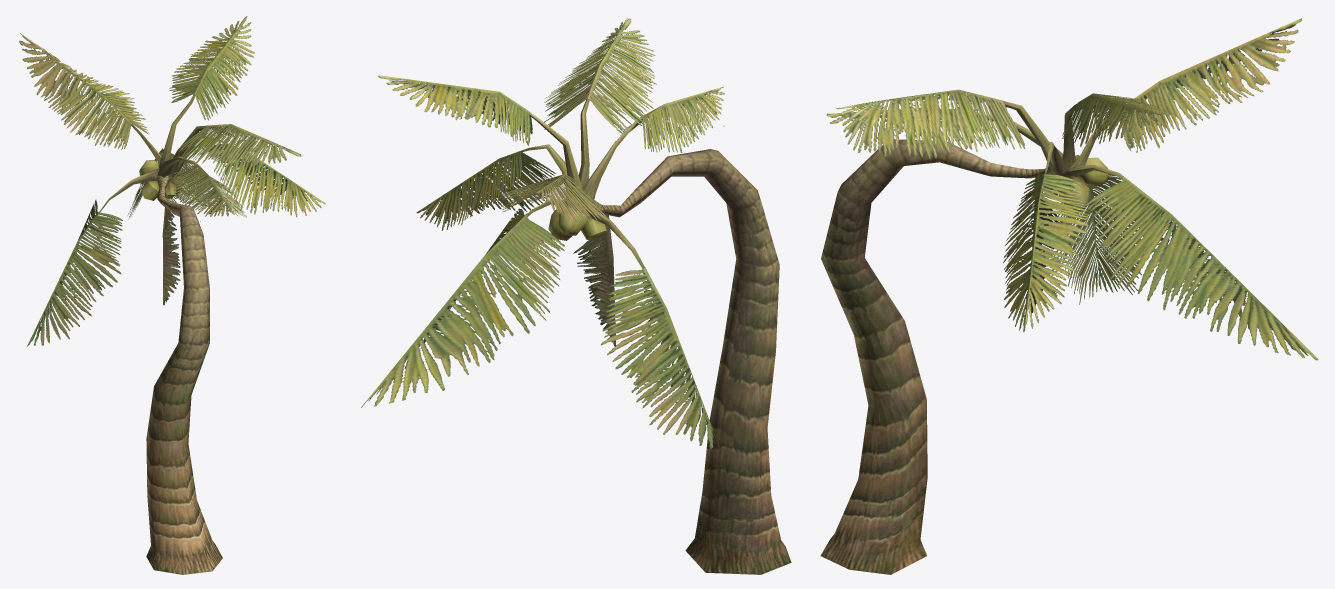
File: 5010_Item_yeshu_04.FBX
The picture shows the model from 3 angles, left to right: view 1: azimuth 30°, elevation 25°; view 2: azimuth 150°, elevation 25°; view 3: azimuth 270°, elevation 25°; orthographic projection. The views are drawn at different scales.
Parts seen in each view (by area): view 1: 5010_Item_yeshu_04; view 2: 5010_Item_yeshu_04; view 3: 5010_Item_yeshu_04.
Part boxes in pixels (bbox=[...]): 5010_Item_yeshu_04: bbox=[19, 16, 325, 574]; 5010_Item_yeshu_04: bbox=[361, 18, 791, 574]; 5010_Item_yeshu_04: bbox=[820, 18, 1318, 574].
Bounding box in the file's own units: 567 × 821 × 679.
